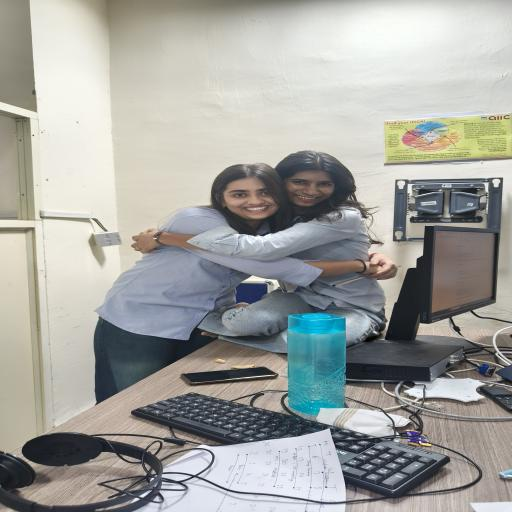survivor: (93, 163, 398, 404), (132, 150, 388, 353)
